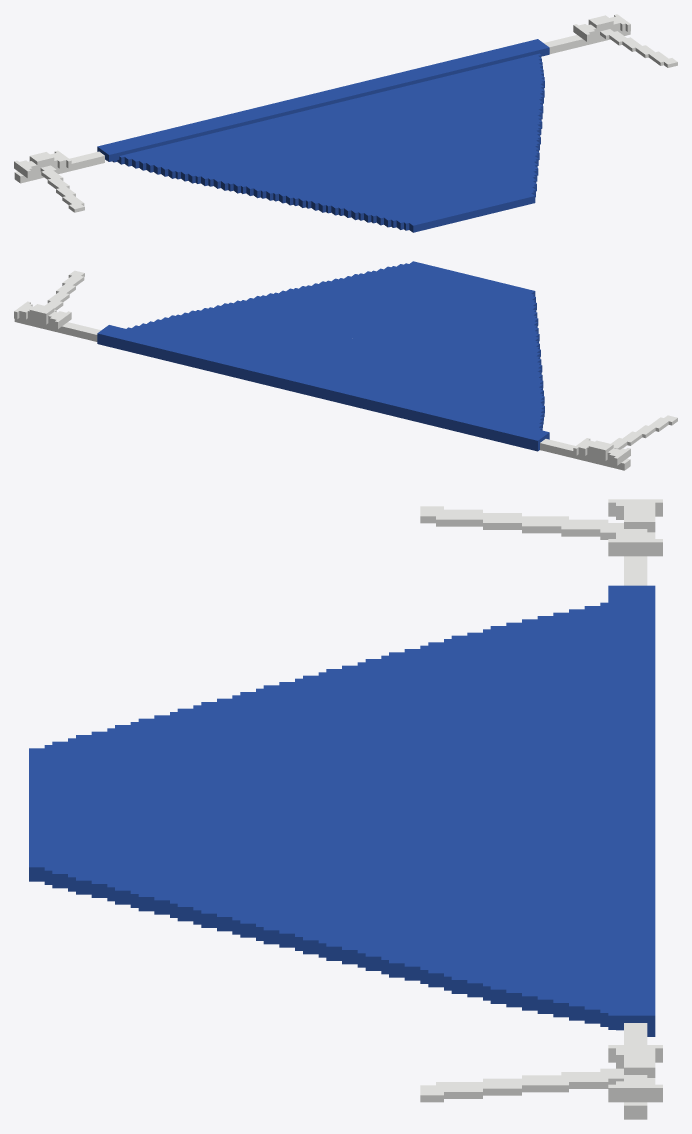
Rendered from bikini_bottom.glb.
The picture shows the model from 3 angles, top to bottom: view 1: azimuth 30°, elevation 25°; view 2: azimuth 150°, elevation 25°; view 3: azimuth 270°, elevation 25°; orthographic projection. The views are drawn at different scales.
Parts seen in each view (by area): view 1: bikini_bottom:compound; view 2: bikini_bottom:compound; view 3: bikini_bottom:compound.
Boxes of the visible parts, bbox=[...] form: bikini_bottom:compound: bbox=[14, 14, 677, 232]; bikini_bottom:compound: bbox=[14, 261, 677, 470]; bikini_bottom:compound: bbox=[29, 499, 662, 1119].
Bounding box in the file's own units: 0.36 × 0.01 × 0.162.
